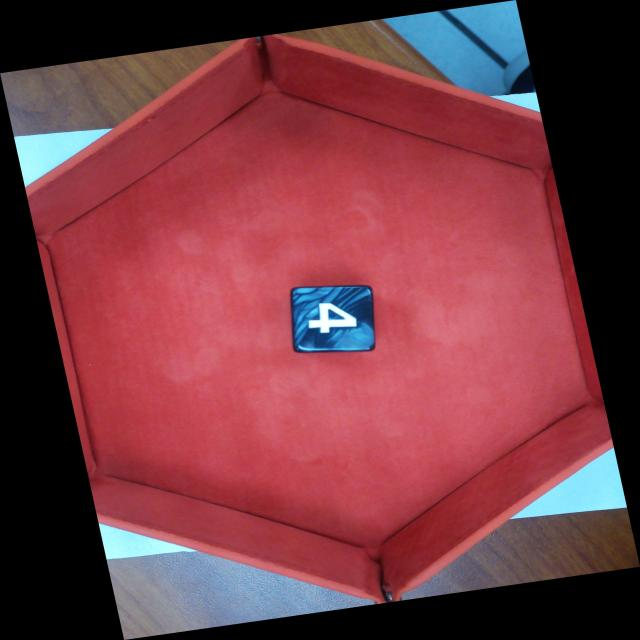dice: (288, 284, 377, 354)
